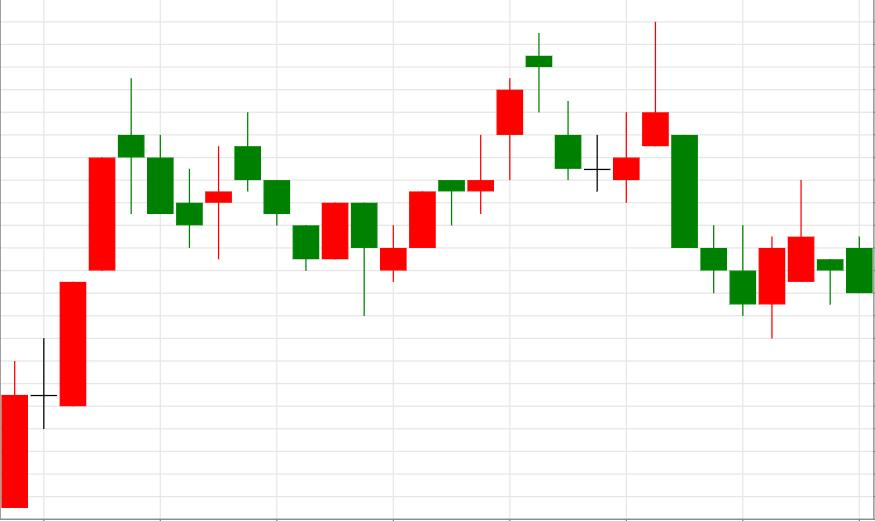evening_star_fall: (380, 33, 582, 281)
